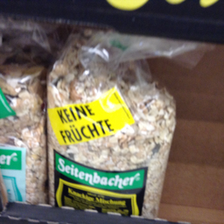cereal: (46, 39, 177, 216)
